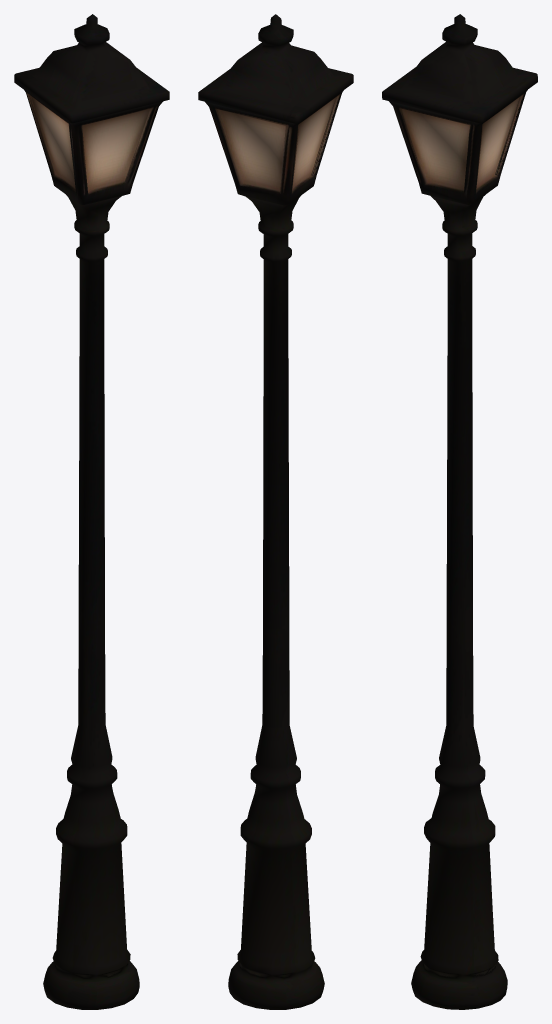
File: a_streetlight_pole_cdf0134a_v2.glb
3 views of the same model, side by side, from view 1: azimuth 30°, elevation 25°; view 2: azimuth 150°, elevation 25°; view 3: azimuth 330°, elevation 25° (orthographic).
Parts seen in each view (by area): view 1: material; view 2: material; view 3: material.
Part boxes in pixels (x1,y1,x2,y2): material: (14, 14, 169, 1009); material: (198, 14, 353, 1009); material: (382, 14, 537, 1009).
Size of the model in its own units: 0.205 by 1.9 by 0.205.
Materials: 1 (1 with a texture image).
